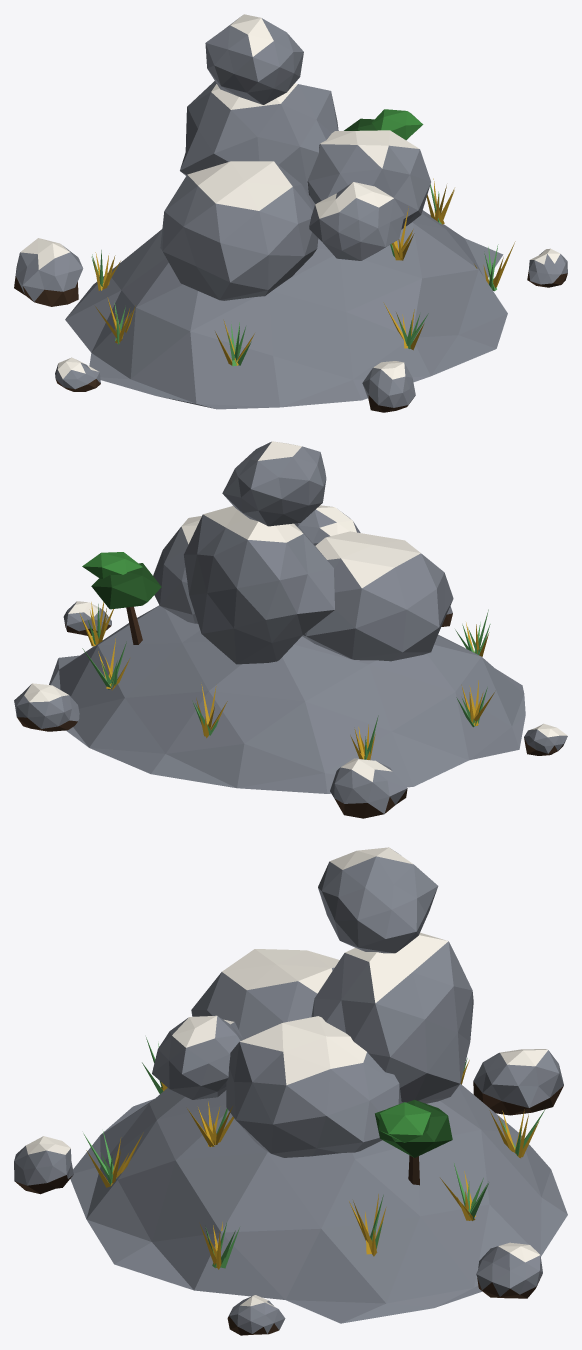
3 renders of one model, top to bottom at view 1: azimuth 30°, elevation 25°; view 2: azimuth 150°, elevation 25°; view 3: azimuth 270°, elevation 25°, orthographic. The views are drawn at different scales.
Visible parts, largest first — view 1: dome_mid_grey, boulders_mid_grey, boulders_warm_white, balancing_rock_mid_grey, loose_boulders_mid_grey, grass_straw_gold, loose_boulders_warm_white, loose_boulders_dark_wood, grass_acacia_green_light, shrub_acacia_green, balancing_rock_warm_white; view 2: dome_mid_grey, boulders_mid_grey, balancing_rock_mid_grey, boulders_warm_white, loose_boulders_mid_grey, grass_straw_gold, shrub_acacia_green_dark, loose_boulders_warm_white, loose_boulders_dark_wood, grass_acacia_green_light, shrub_acacia_green, balancing_rock_warm_white; view 3: dome_mid_grey, boulders_mid_grey, boulders_warm_white, loose_boulders_mid_grey, balancing_rock_mid_grey, grass_straw_gold, loose_boulders_dark_wood, grass_acacia_green_light, loose_boulders_warm_white, shrub_acacia_green_dark, shrub_acacia_green, balancing_rock_warm_white.
Boxes of the visible parts, <box> form: dome_mid_grey: <box>65,210,507,409</box>; boulders_mid_grey: <box>160,81,430,300</box>; boulders_warm_white: <box>187,83,419,218</box>; balancing_rock_mid_grey: <box>205,17,303,104</box>; loose_boulders_mid_grey: <box>14,246,567,407</box>; grass_straw_gold: <box>94,178,515,365</box>; loose_boulders_warm_white: <box>20,238,560,379</box>; loose_boulders_dark_wood: <box>14,271,567,412</box>; grass_acacia_green_light: <box>91,184,498,366</box>; shrub_acacia_green: <box>371,109,423,139</box>; balancing_rock_warm_white: <box>230,14,273,56</box>; dome_mid_grey: <box>49,605,525,793</box>; boulders_mid_grey: <box>153,509,453,664</box>; balancing_rock_mid_grey: <box>222,441,326,526</box>; boulders_warm_white: <box>181,505,420,587</box>; loose_boulders_mid_grey: <box>14,601,567,813</box>; grass_straw_gold: <box>79,602,494,759</box>; shrub_acacia_green_dark: <box>91,563,161,609</box>; loose_boulders_warm_white: <box>24,601,567,781</box>; loose_boulders_dark_wood: <box>17,613,563,818</box>; grass_acacia_green_light: <box>82,604,490,759</box>; shrub_acacia_green: <box>82,552,142,578</box>; balancing_rock_warm_white: <box>258,441,301,460</box>; dome_mid_grey: <box>70,1084,567,1323</box>; boulders_mid_grey: <box>152,941,473,1157</box>; boulders_warm_white: <box>172,932,448,1085</box>; loose_boulders_mid_grey: <box>14,1050,563,1333</box>; balancing_rock_mid_grey: <box>318,851,438,953</box>; grass_straw_gold: <box>86,1060,539,1269</box>; loose_boulders_dark_wood: <box>15,1081,563,1335</box>; grass_acacia_green_light: <box>83,1037,545,1268</box>; loose_boulders_warm_white: <box>26,1049,547,1307</box>; shrub_acacia_green_dark: <box>375,1099,452,1157</box>; shrub_acacia_green: <box>379,1102,430,1142</box>; balancing_rock_warm_white: <box>330,847,413,869</box>.
Size of the model in its own units: 10.43 by 5.59 by 8.37.
